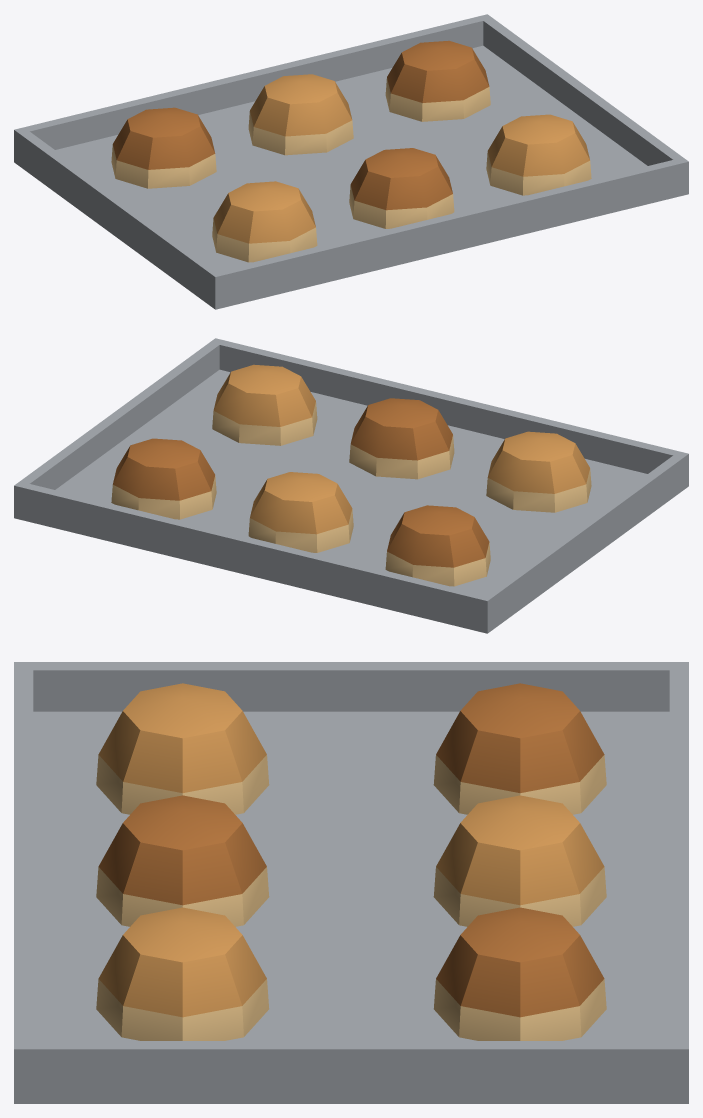
The model's file is bakingTray.glb.
3 views of the same model, one above another, from view 1: azimuth 30°, elevation 25°; view 2: azimuth 150°, elevation 25°; view 3: azimuth 270°, elevation 25° (orthographic). The views are drawn at different scales.
Visible parts, largest first — view 1: bakingTray; view 2: bakingTray; view 3: bakingTray.
Boxes of the visible parts, x1,y1,x2,y2 form: bakingTray: [14, 14, 688, 309]; bakingTray: [14, 338, 688, 633]; bakingTray: [14, 662, 688, 1103].
Size of the model in its own units: 0.38 by 0.046 by 0.28.
